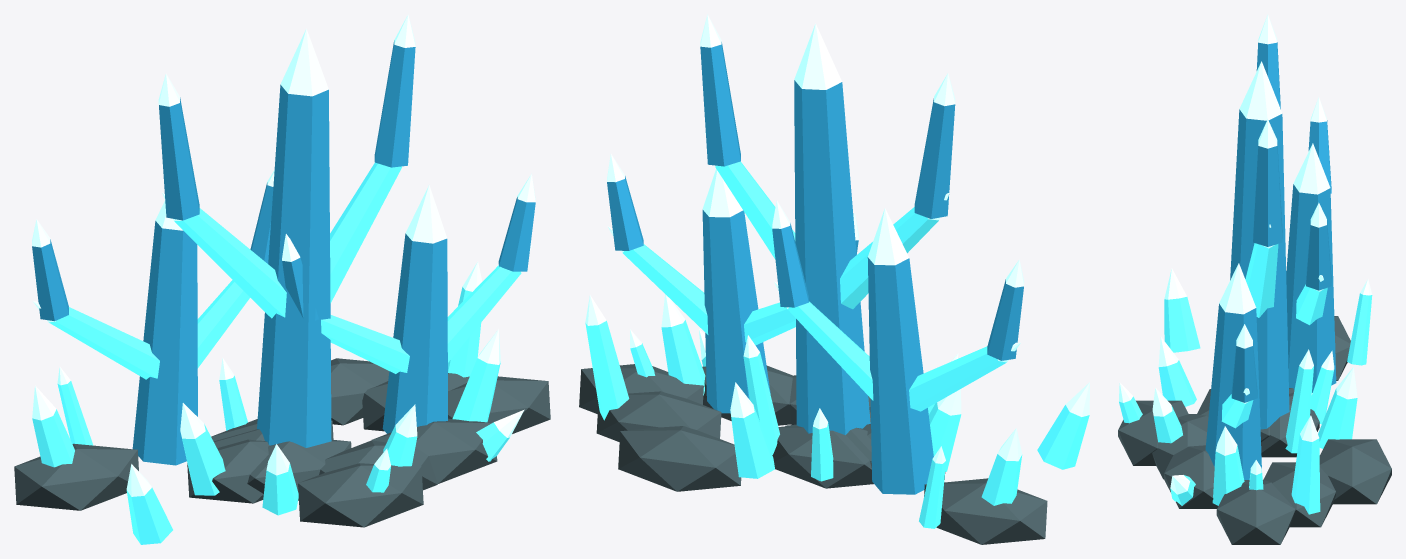
Rendered from world-crystal.glb.
The picture shows the model from 3 angles, left to right: view 1: azimuth 30°, elevation 25°; view 2: azimuth 150°, elevation 25°; view 3: azimuth 270°, elevation 25°; orthographic projection. The views are drawn at different scales.
Visible parts, largest first — view 1: world-crystal / Abyssal crystal blue, world-crystal / Ice turquoise facets, world-crystal / Mineral basalt edge, world-crystal / Luminous crystal tips; view 2: world-crystal / Abyssal crystal blue, world-crystal / Ice turquoise facets, world-crystal / Mineral basalt edge, world-crystal / Luminous crystal tips; view 3: world-crystal / Abyssal crystal blue, world-crystal / Mineral basalt edge, world-crystal / Ice turquoise facets, world-crystal / Luminous crystal tips.
Part boxes in pixels (x1,y1,x2,y2): world-crystal / Abyssal crystal blue: (32, 40, 535, 465); world-crystal / Ice turquoise facets: (32, 162, 521, 544); world-crystal / Mineral basalt edge: (14, 358, 550, 527); world-crystal / Luminous crystal tips: (32, 14, 535, 496); world-crystal / Abyssal crystal blue: (607, 42, 1023, 494); world-crystal / Ice turquoise facets: (585, 161, 1089, 528); world-crystal / Mineral basalt edge: (579, 364, 1047, 544); world-crystal / Luminous crystal tips: (585, 14, 1089, 463); world-crystal / Abyssal crystal blue: (1205, 42, 1336, 479); world-crystal / Mineral basalt edge: (1118, 316, 1391, 544); world-crystal / Ice turquoise facets: (1119, 243, 1372, 514); world-crystal / Luminous crystal tips: (1119, 14, 1372, 494).
Size of the model in its own units: 11.04 by 9.5 by 5.9.
